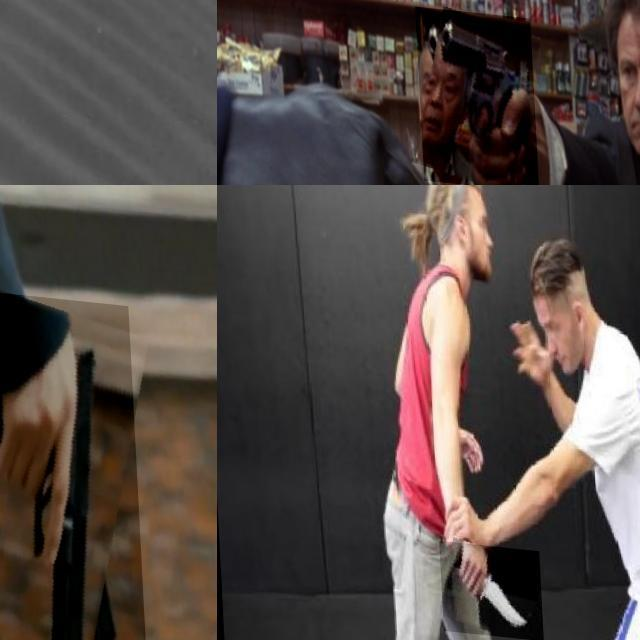-: (434, 536, 538, 634)
gun-knife-thesis - v11 Yolov5 augmented: (0, 281, 141, 640), (413, 2, 536, 185)
